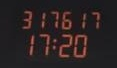0: (73, 33, 87, 58)
1: (28, 33, 35, 56), (80, 11, 87, 30), (40, 10, 45, 29)
2: (58, 33, 72, 58)
3: (21, 9, 31, 29)
6: (61, 10, 72, 30)
7: (38, 32, 49, 55), (90, 10, 100, 30), (49, 9, 59, 29)
X: (51, 36, 57, 50)
